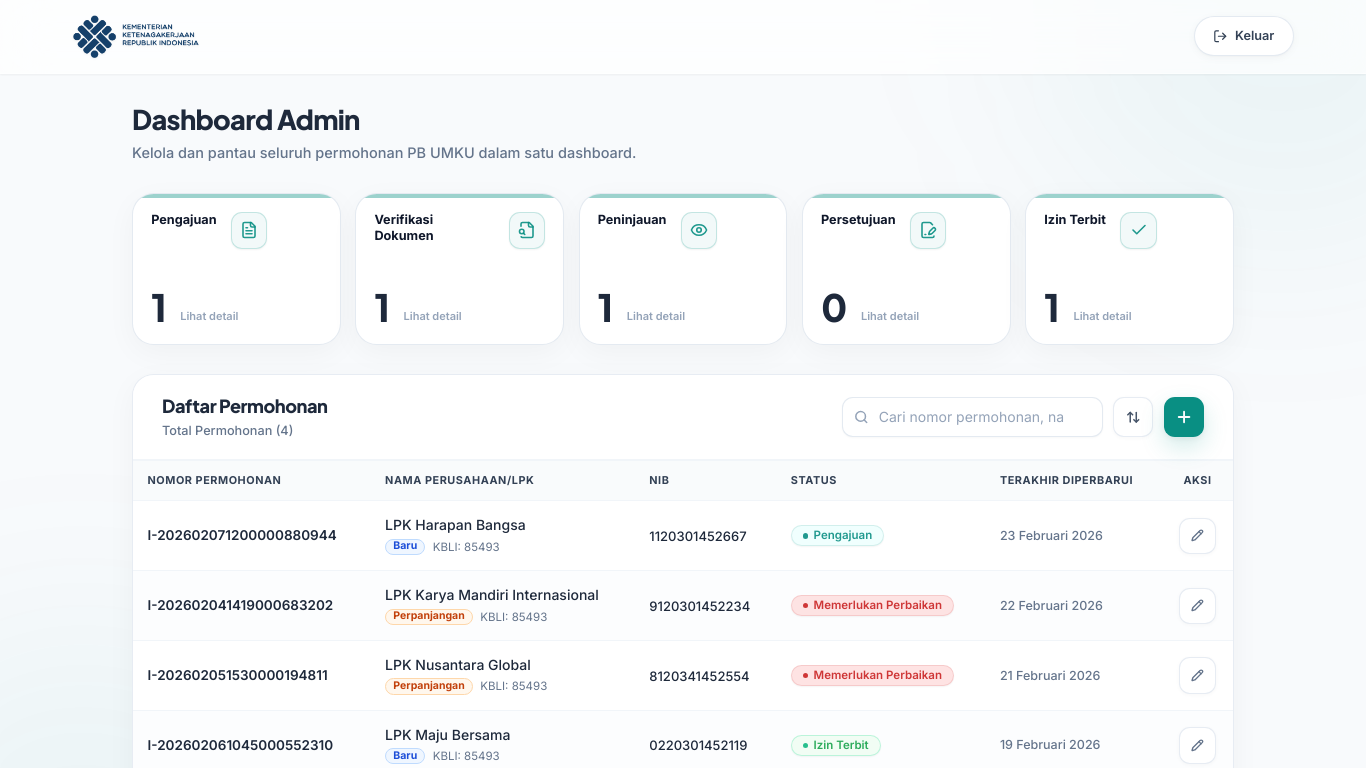
session flow › requires confirmation before creating a new submission from admin dashboard
Later steps or results of the test are not shown.
Click the button named "Buat Permohonan Baru" at point(1184, 417), box [1164,397,1204,437]
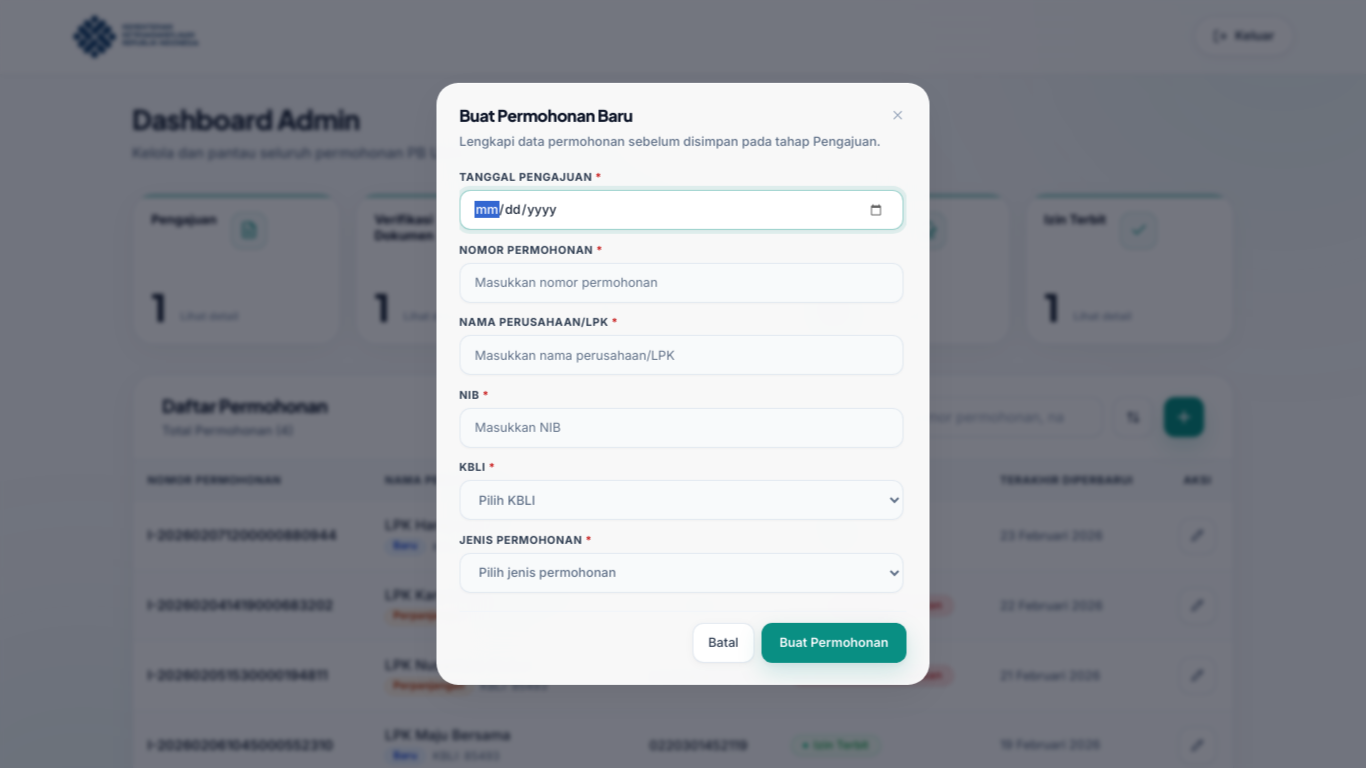
Type "2026-04-05" into the date field at point(681, 210), box [459,190,903,230]
Type "I-202604050000000999999" into the field with placeholder "Masukkan nomor permohonan" at point(681, 283), box [459,263,903,302]
Type "LPK Masa Depan" into the field with placeholder "Masukkan nama perusahaan/LPK" at point(681, 355), box [459,335,903,375]
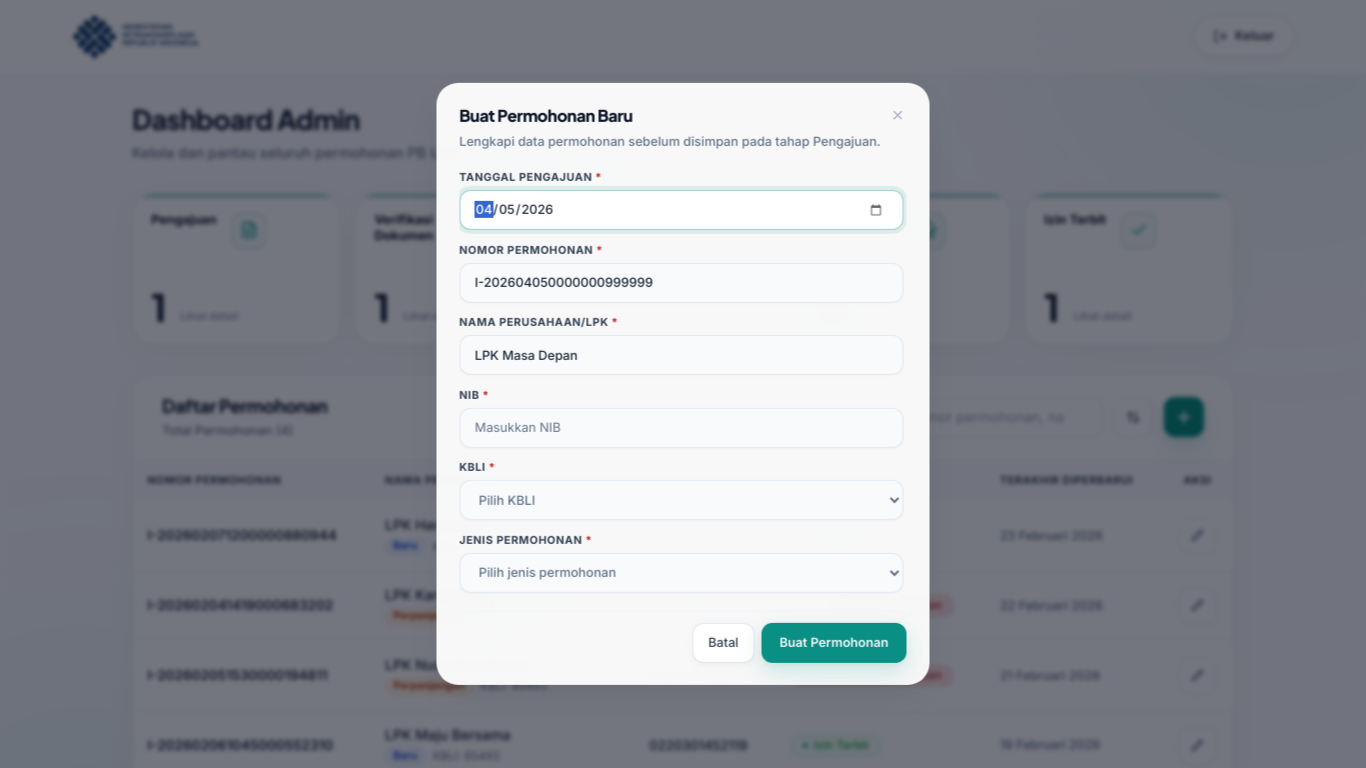
Type "9988776655443" into the field with placeholder "Masukkan NIB" at point(681, 428), box [459,408,903,448]
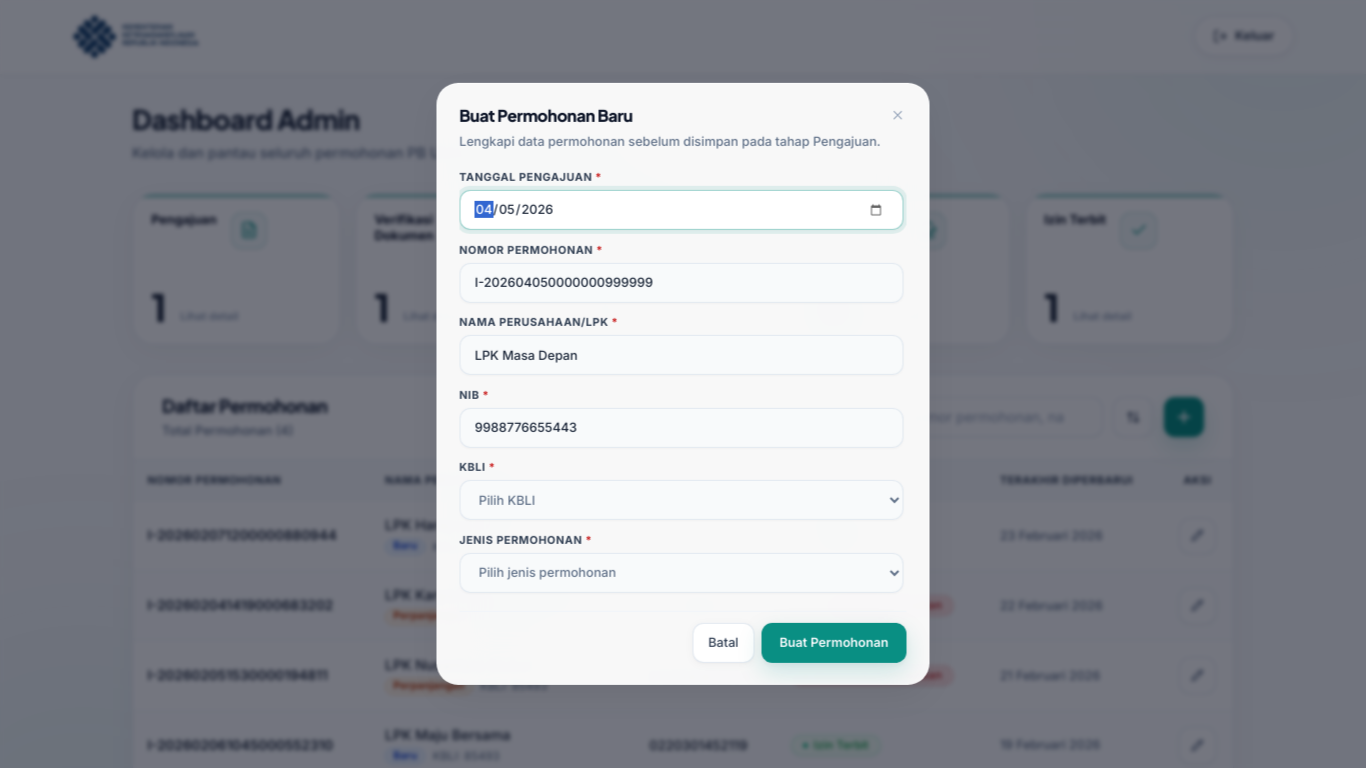
Select "78425 - Pelatihan Kerja Bisnis dan Manajemen Swasta" in the 1st dropdown at point(681, 500), box [459,480,903,520]
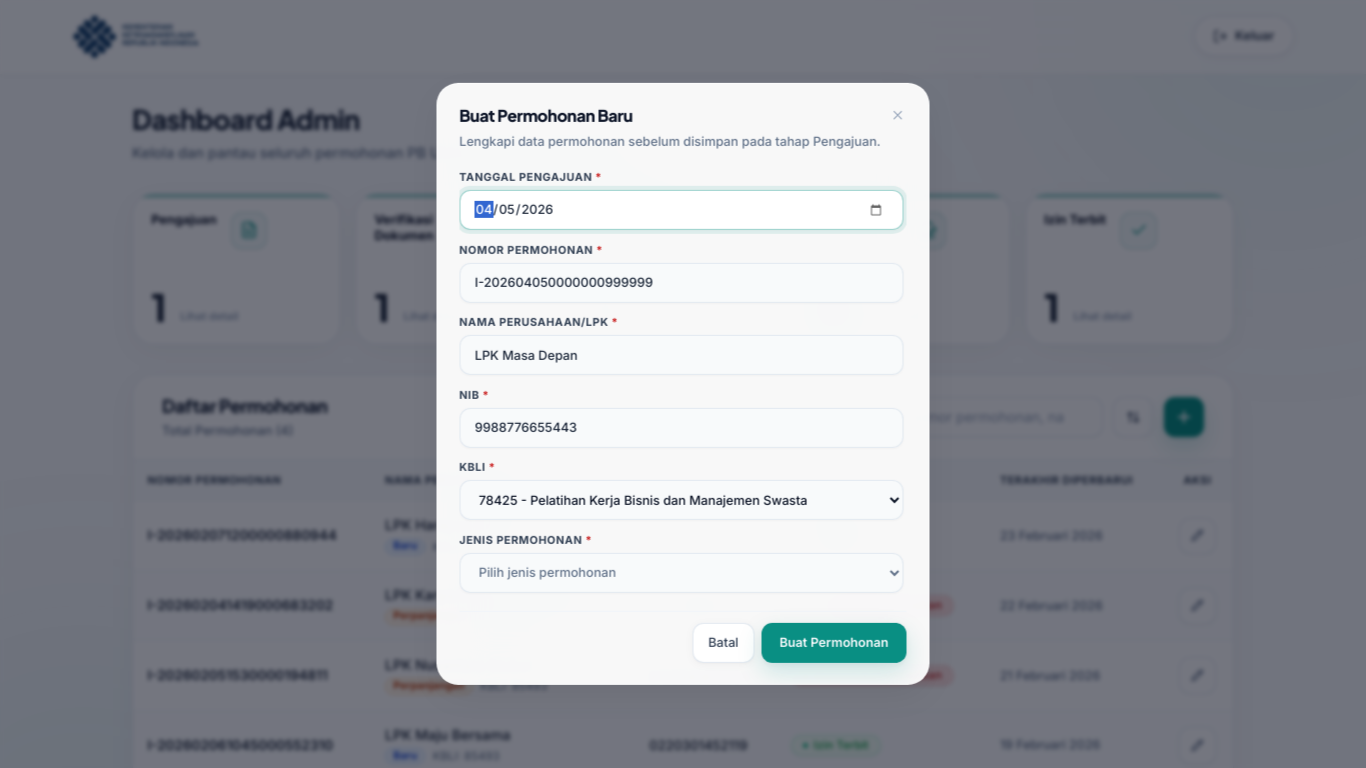
Select "Baru" in the dropdown below "Jenis permohonan" at point(681, 573), box [459,553,903,592]
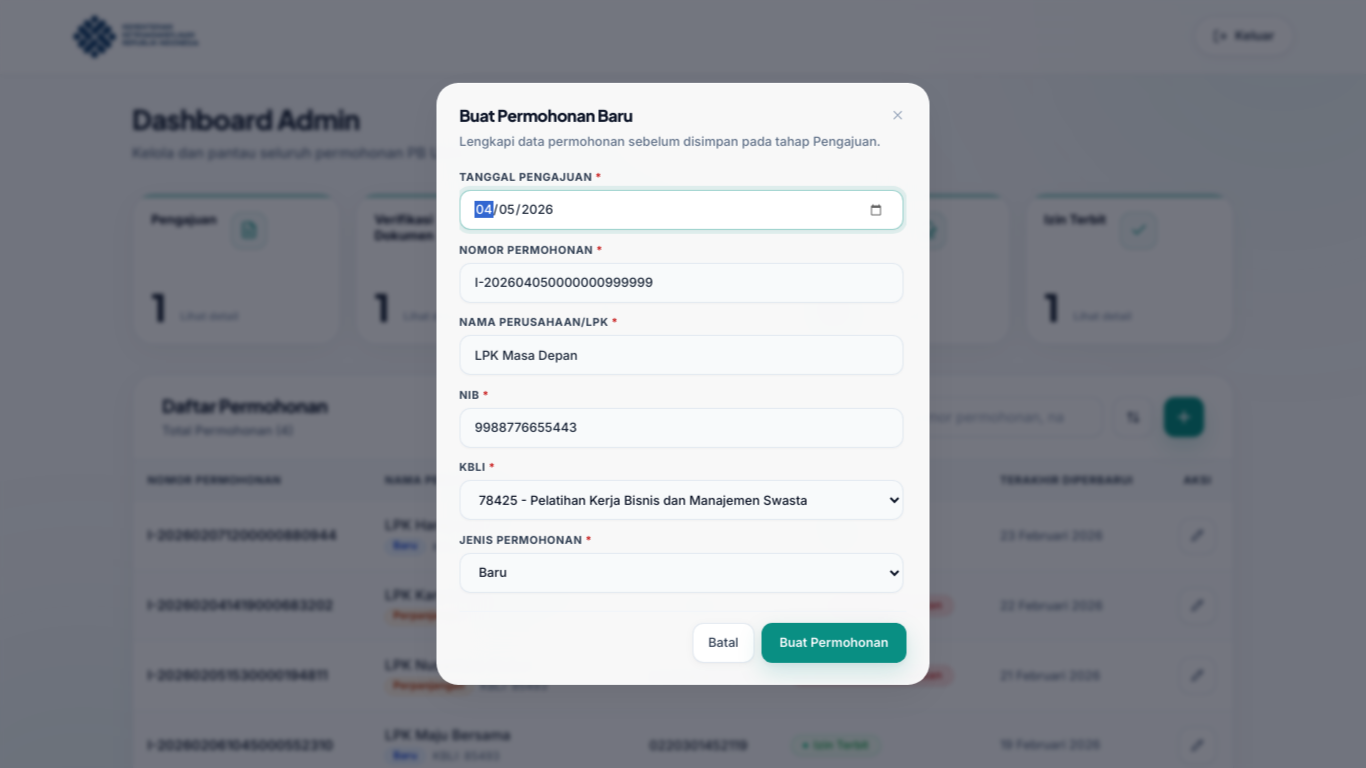
Click the button "Buat Permohonan" at point(834, 642), box [761,622,907,662]
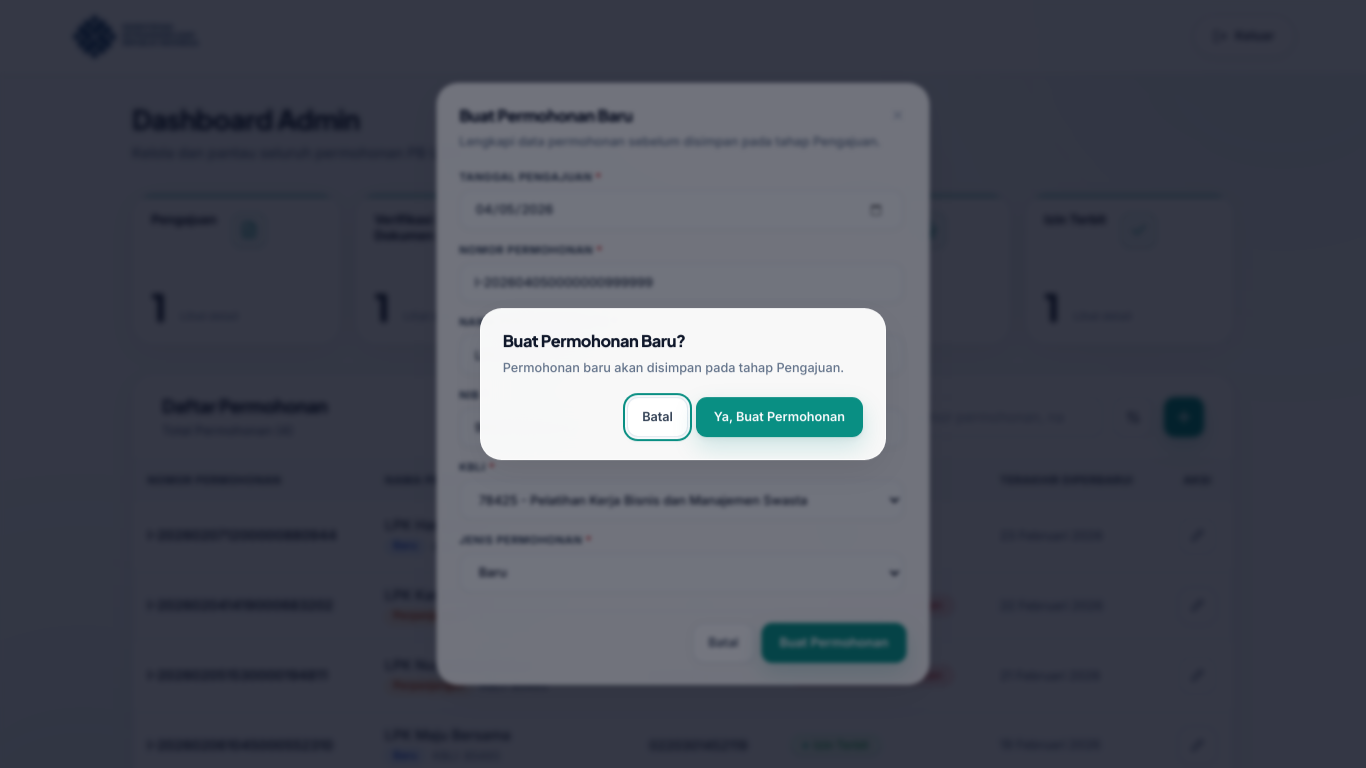
Now the heading "Buat Permohonan Baru?" is shown, box [503,330,686,351]
